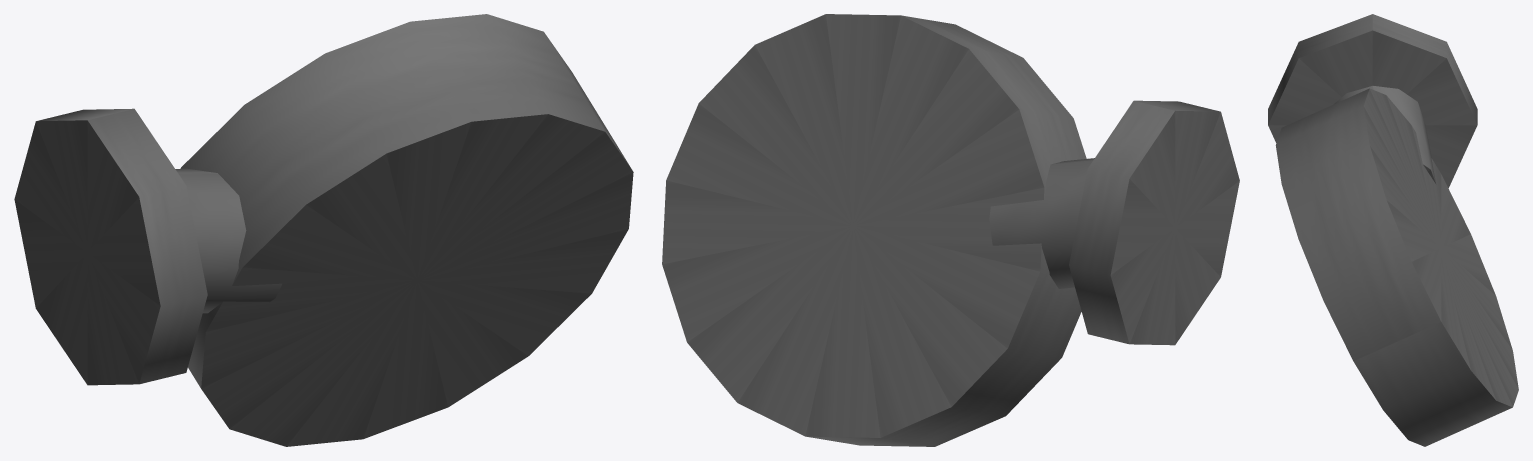
File: mastarmcurve_6x2_c2_west.obj
3 views of the same model, side by side, from view 1: azimuth 30°, elevation 25°; view 2: azimuth 150°, elevation 25°; view 3: azimuth 270°, elevation 25° (orthographic). The views are drawn at different scales.
Visible parts, largest first — view 1: mastarm_6x2_c2_west; view 2: mastarm_6x2_c2_west; view 3: mastarm_6x2_c2_west.
Part boxes in pixels (x1,y1,x2,y2): mastarm_6x2_c2_west: (14,14,633,446); mastarm_6x2_c2_west: (662,14,1239,446); mastarm_6x2_c2_west: (1268,14,1518,446).
Bounding box in the file's own units: 0.8335 × 0.682 × 0.4791.
